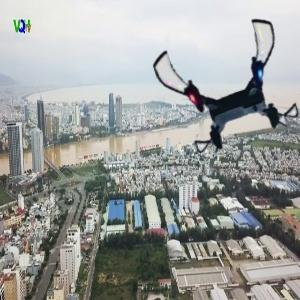drone: (162, 23, 292, 153)
